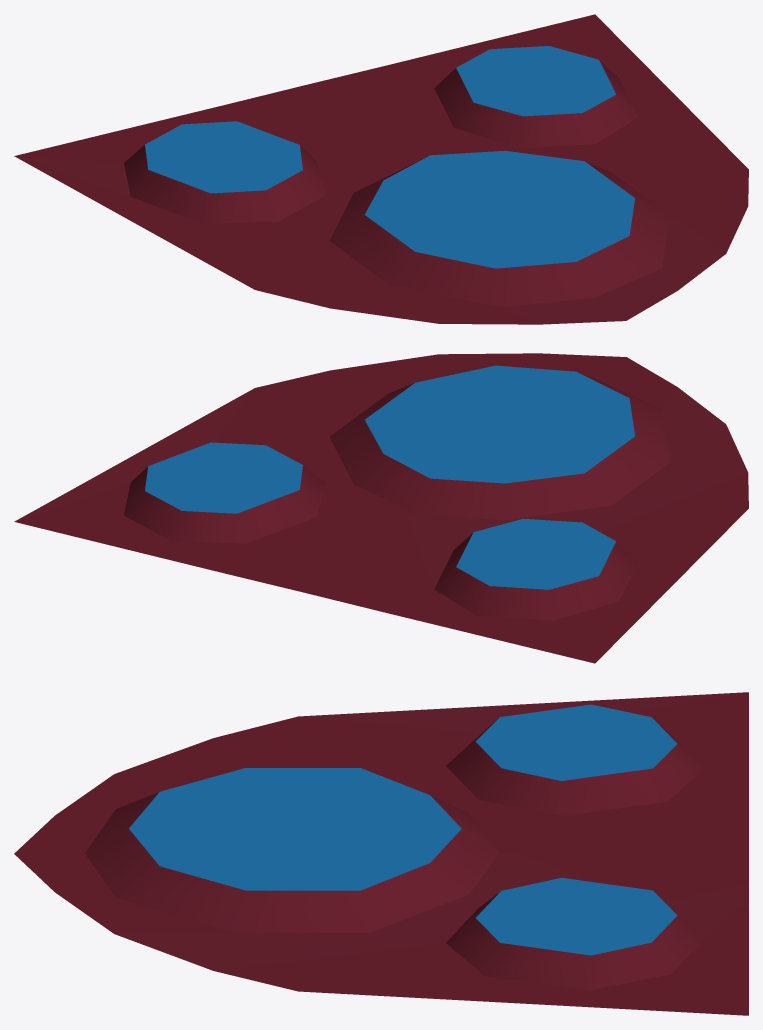
File: Cath_window_small.FBX
The picture shows the model from 3 angles, top to bottom: view 1: azimuth 30°, elevation 25°; view 2: azimuth 150°, elevation 25°; view 3: azimuth 270°, elevation 25°; orthographic projection. The views are drawn at different scales.
Parts seen in each view (by area): view 1: Cath_window_small; view 2: Cath_window_small; view 3: Cath_window_small.
Part boxes in pixels (<box>): Cath_window_small: <box>14,14,748,324</box>; Cath_window_small: <box>14,353,748,663</box>; Cath_window_small: <box>14,692,748,1015</box>.
Bounding box in the file's own units: 299 × 287 × 11.19.
